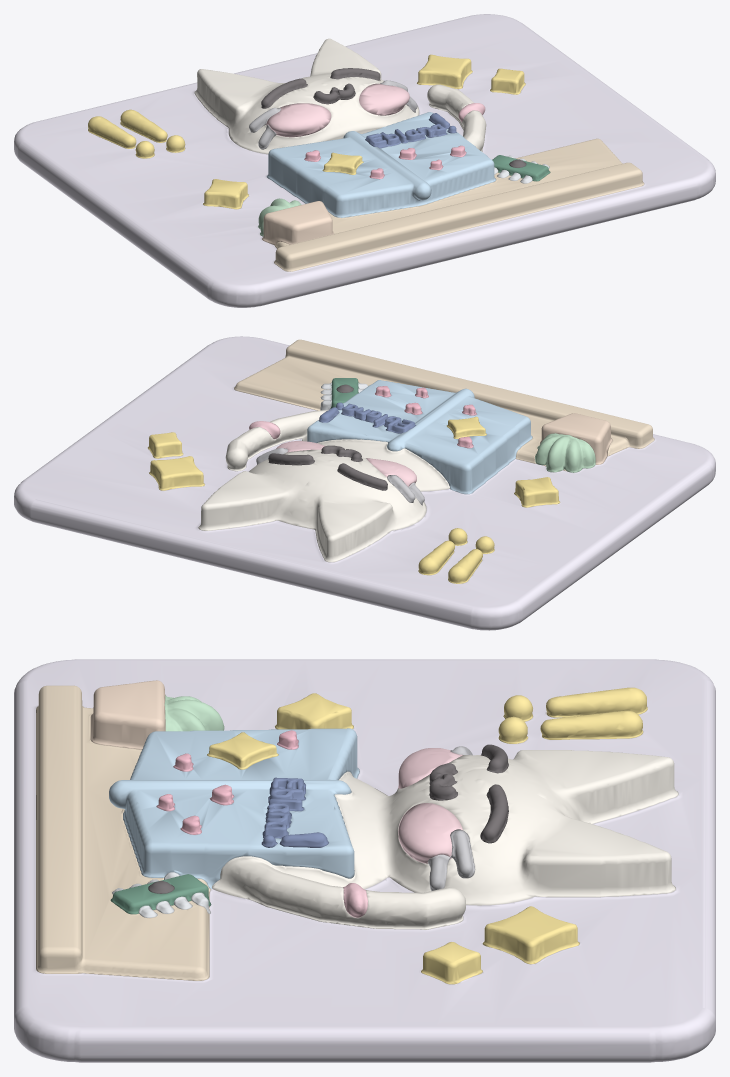
The model's file is magnet-cat.glb.
3 renders of one model, top to bottom at view 1: azimuth 30°, elevation 25°; view 2: azimuth 150°, elevation 25°; view 3: azimuth 270°, elevation 25°, orthographic. The views are drawn at different scales.
Visible parts, largest first — view 1: 15_plate, 14_wood, 12_cover, 11_cream, 08_yellow, 06_blush, 13_pot, 01_black, 03_text, 02_whisker, 04_heart, 10_chip; view 2: 15_plate, 11_cream, 12_cover, 14_wood, 08_yellow, 09_leaf, 13_pot, 01_black, 03_text, 06_blush, 04_heart, 02_whisker (+1 smaller); view 3: 15_plate, 11_cream, 14_wood, 12_cover, 08_yellow, 13_pot, 06_blush, 01_black, 03_text, 10_chip, 09_leaf, 02_whisker (+3 smaller).
Boxes of the visible parts, <box> form: 15_plate: <box>14,14,715,307</box>; 14_wood: <box>274,138,644,271</box>; 12_cover: <box>266,112,496,217</box>; 11_cream: <box>194,38,486,154</box>; 08_yellow: <box>88,54,525,209</box>; 06_blush: <box>266,83,409,137</box>; 13_pot: <box>262,201,333,244</box>; 01_black: <box>261,68,526,167</box>; 03_text: <box>365,113,456,148</box>; 02_whisker: <box>249,80,417,149</box>; 04_heart: <box>304,145,466,179</box>; 10_chip: <box>492,155,550,181</box>; 15_plate: <box>14,336,715,630</box>; 11_cream: <box>198,410,449,562</box>; 12_cover: <box>307,380,532,494</box>; 14_wood: <box>234,339,654,471</box>; 08_yellow: <box>147,416,560,583</box>; 09_leaf: <box>535,433,595,472</box>; 13_pot: <box>540,413,612,464</box>; 01_black: <box>268,384,387,490</box>; 03_text: <box>318,402,415,433</box>; 06_blush: <box>276,441,416,486</box>; 04_heart: <box>375,386,476,448</box>; 02_whisker: <box>256,448,424,505</box>; 15_plate: <box>14,659,715,1062</box>; 11_cream: <box>212,750,678,929</box>; 14_wood: <box>36,685,210,980</box>; 12_cover: <box>109,728,359,888</box>; 08_yellow: <box>207,687,647,984</box>; 13_pot: <box>90,680,165,749</box>; 06_blush: <box>398,748,462,863</box>; 01_black: <box>148,744,508,893</box>; 03_text: <box>261,777,328,847</box>; 10_chip: <box>110,874,211,914</box>; 09_leaf: <box>164,695,224,731</box>; 02_whisker: <box>428,746,475,890</box>.
Size of the model in its own units: 0.7009 by 0.0892 by 0.5502.
Materials: 2 (2 with a texture image).
